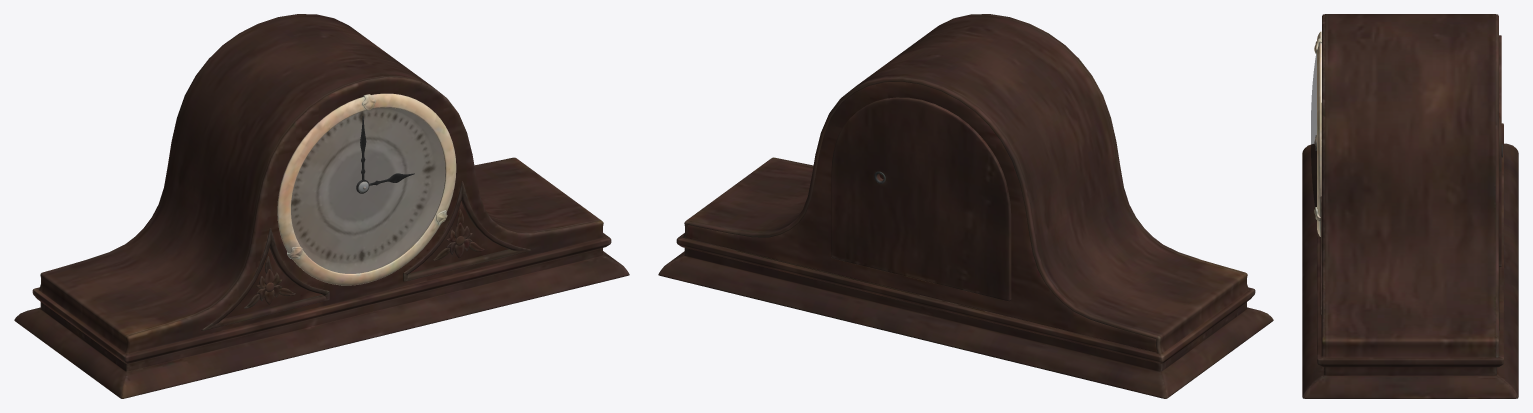
File: mantel_clock_01.glb
The picture shows the model from 3 angles, left to right: view 1: azimuth 30°, elevation 25°; view 2: azimuth 150°, elevation 25°; view 3: azimuth 270°, elevation 25°; orthographic projection.
Parts seen in each view (by area): view 1: mantel_clock_01, mantel_clock_01_glass; view 2: mantel_clock_01; view 3: mantel_clock_01, mantel_clock_01_glass.
Boxes of the visible parts, x1,y1,x2,y2 form: mantel_clock_01: [14, 14, 629, 398]; mantel_clock_01_glass: [291, 107, 445, 273]; mantel_clock_01: [658, 14, 1273, 398]; mantel_clock_01: [1302, 14, 1518, 398]; mantel_clock_01_glass: [1311, 53, 1316, 207].
Bounding box in the file's own units: 0.3423 × 0.1605 × 0.1262.
Materials: 2 (2 with a texture image).
